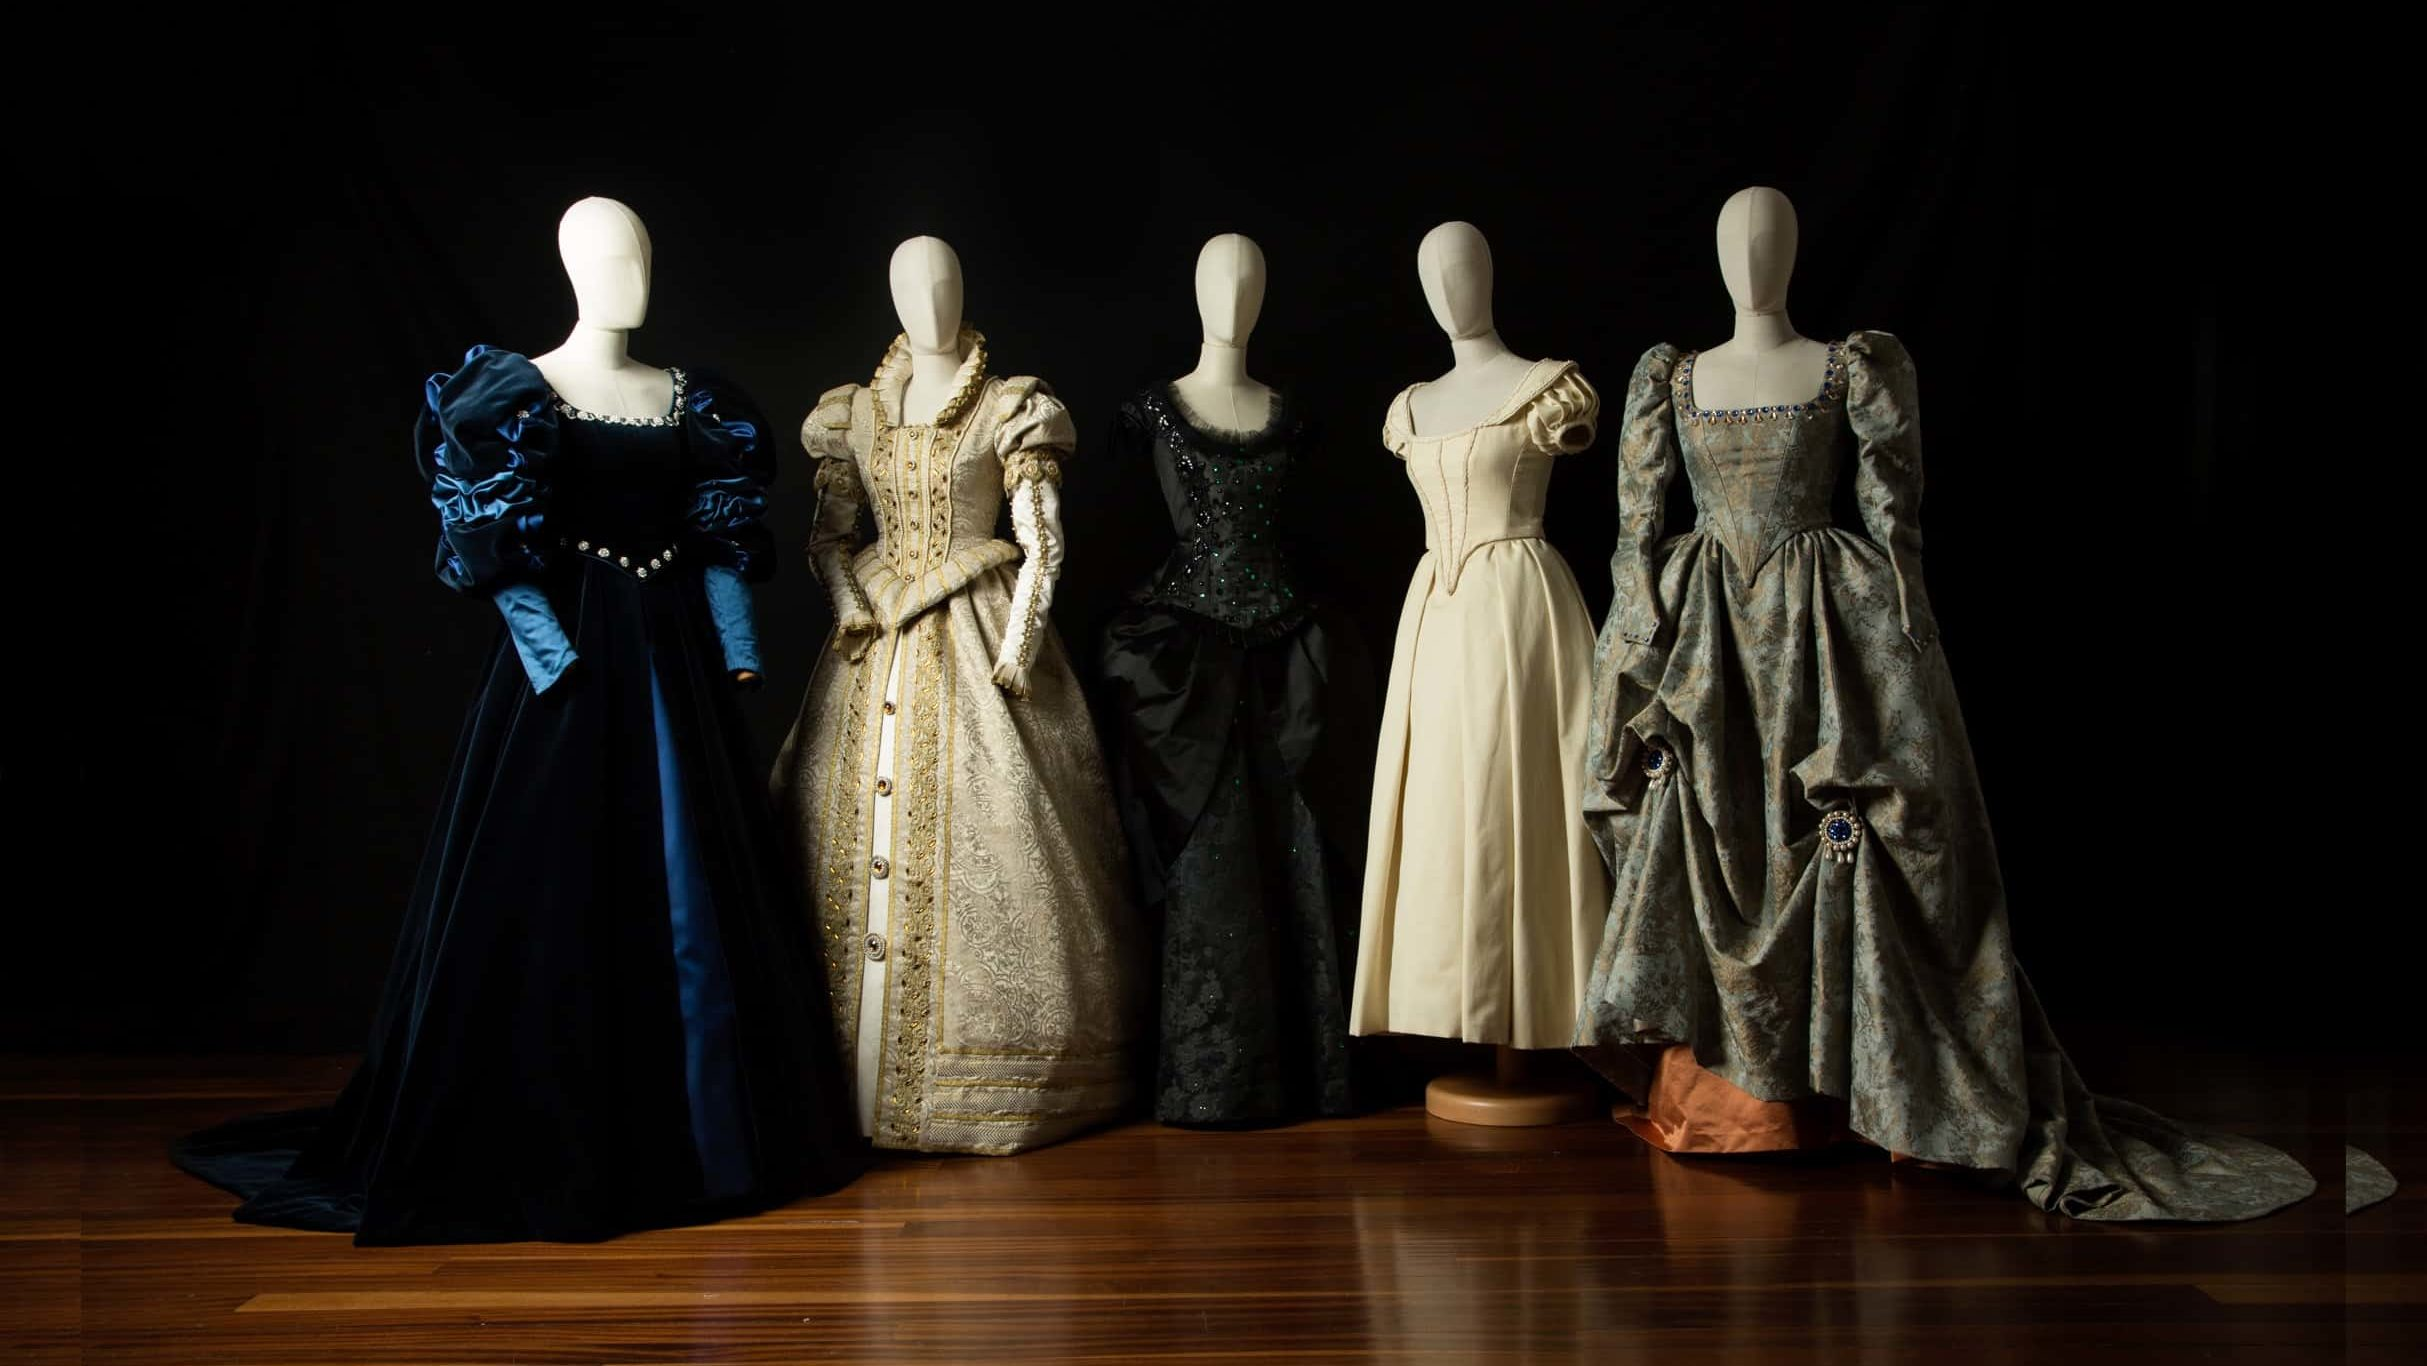person-like: (1573, 170, 2062, 1183), (412, 176, 815, 1234), (791, 227, 1129, 1170), (1338, 218, 1634, 1065), (1108, 220, 1361, 1139)
